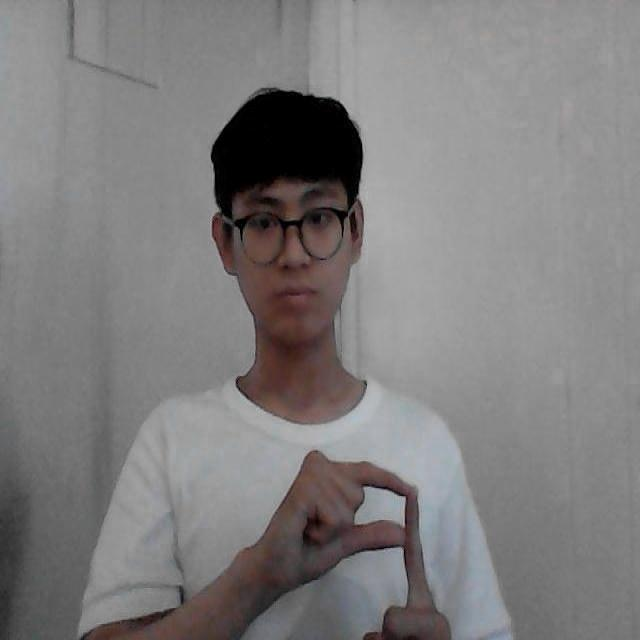P: (320, 451, 448, 640)
